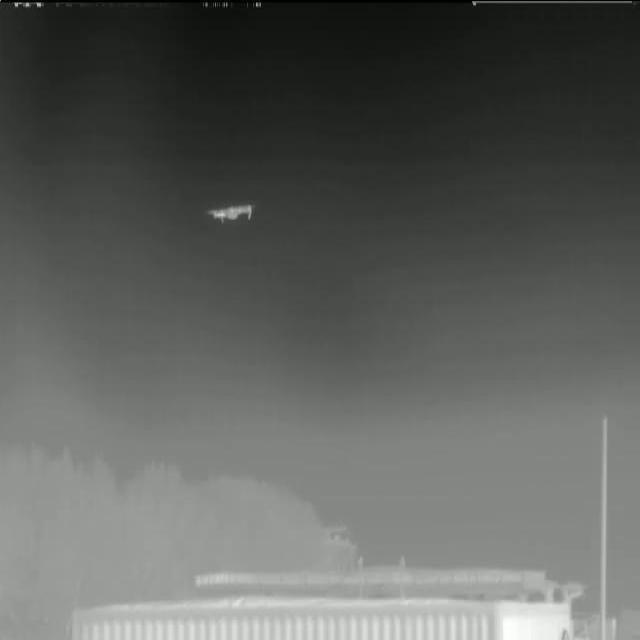DRONE: (194, 192, 264, 230)
